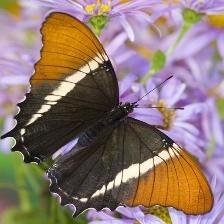butterfly: (2, 13, 214, 222)
